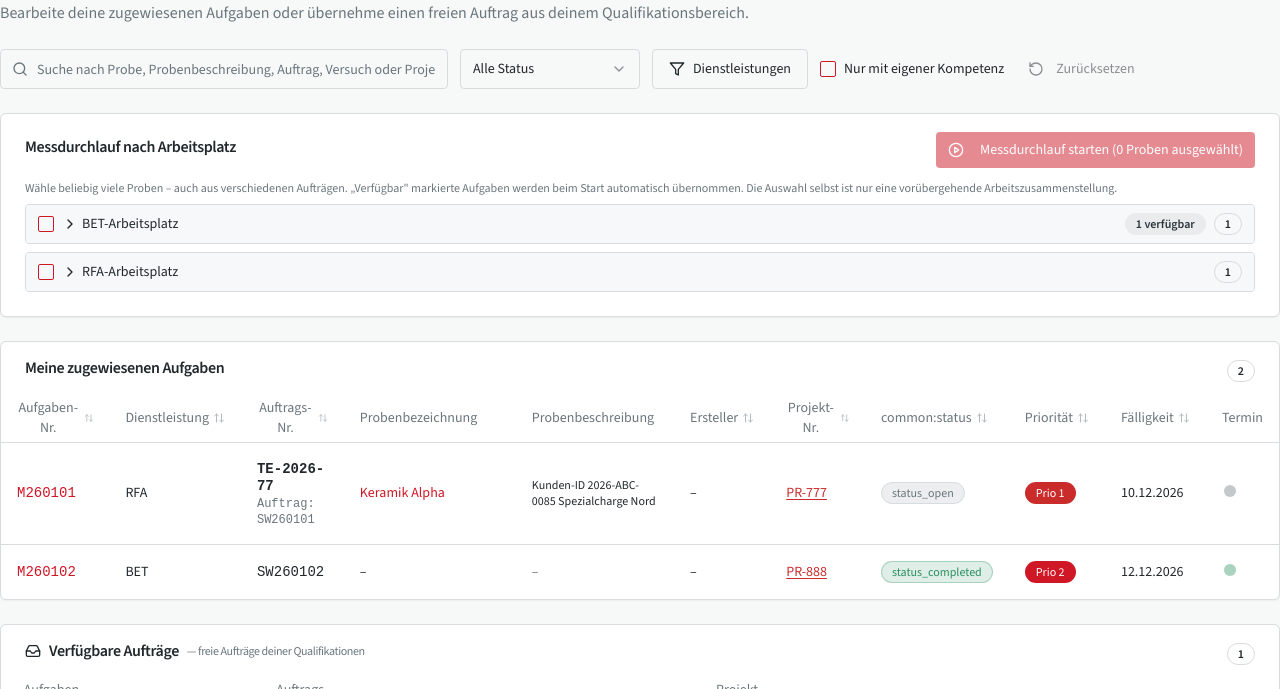
Test: Meine Aufgaben (DurchfuehrerTasksView) – Suche, Beschreibung & Navigation › sucht in Probenbeschreibung (inkl. 2026-abc-0085, Copy-Paste-Leerzeichen, Sonderzeichen) und klappt Treffergruppen automatisch auf
Check: the button "Bearbeiten" is not shown
// Suche nach Kunden-ID mit Copy-Paste-Leerzeichen & Kleinschreibung
Replace the text in the field with placeholder "Suche nach Probe, Probenbeschreibung, Auftrag, Versuch oder Projekt …" with "  2026-abc-0085  " at (224, 69), box [0,49,448,89]
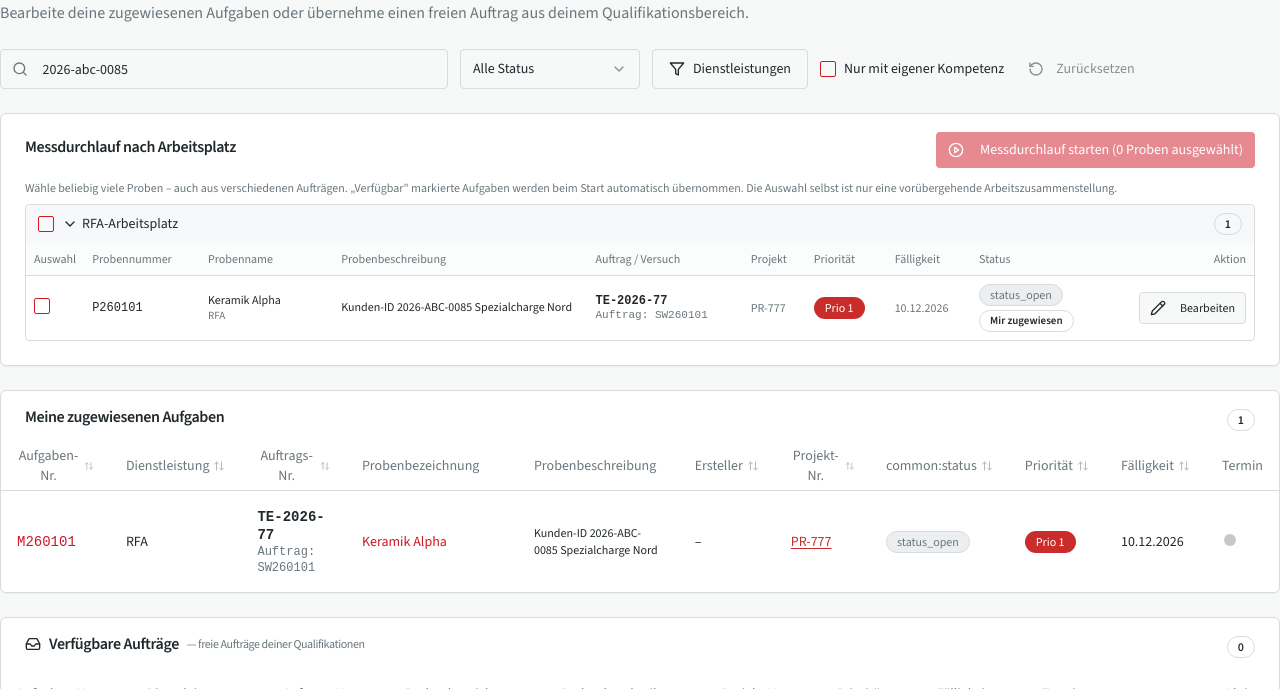
Check: the button "Bearbeiten" is shown, box [1139,292,1246,324]
// Suche nach Sonderzeichen in der freien Aufgabe
Replace the text in the field with placeholder "Suche nach Probe, Probenbeschreibung, Auftrag, Versuch oder Projekt …" with "sonderprobe_a/b-12.3" at (224, 69), box [0,49,448,89]
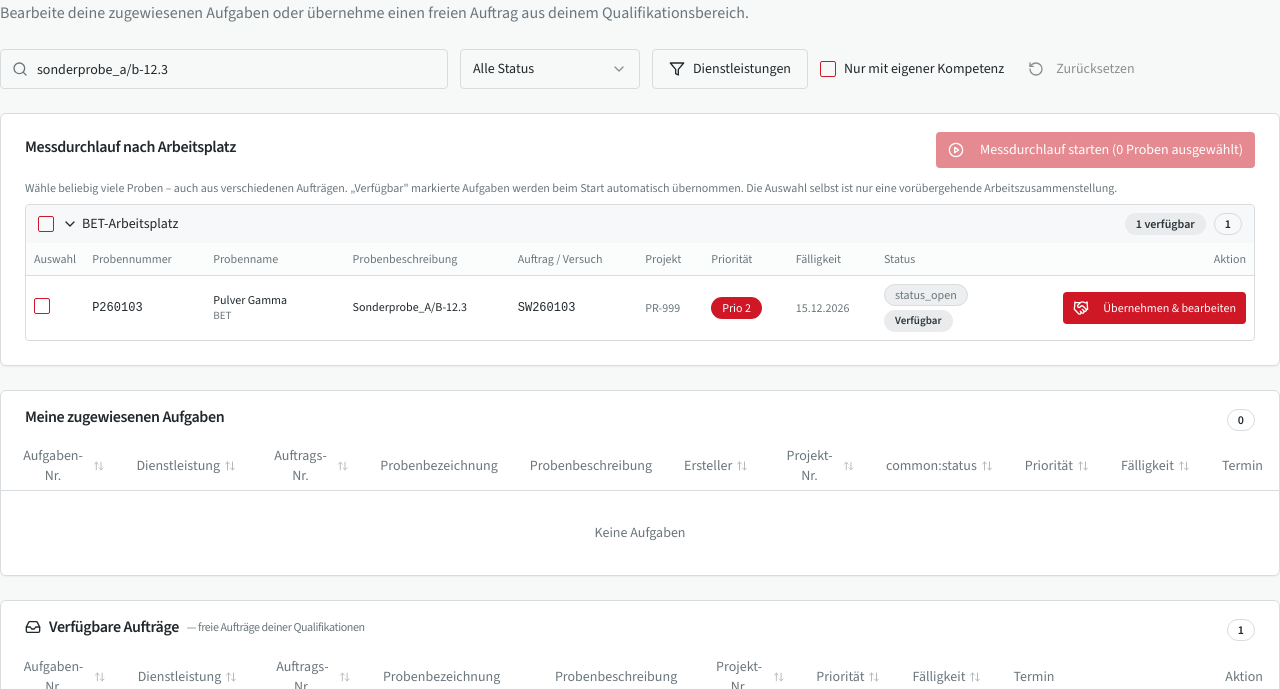
Check: the button "Übernehmen & bearbeiten" is shown, box [1063,292,1246,324]
Check: the link "M260101" is gone
// Suche nach Versuchsnummer & Projektname funktioniert weiterhin
Replace the text in the field with placeholder "Suche nach Probe, Probenbeschreibung, Auftrag, Versuch oder Projekt …" with "te-2026-77" at (224, 69), box [0,49,448,89]
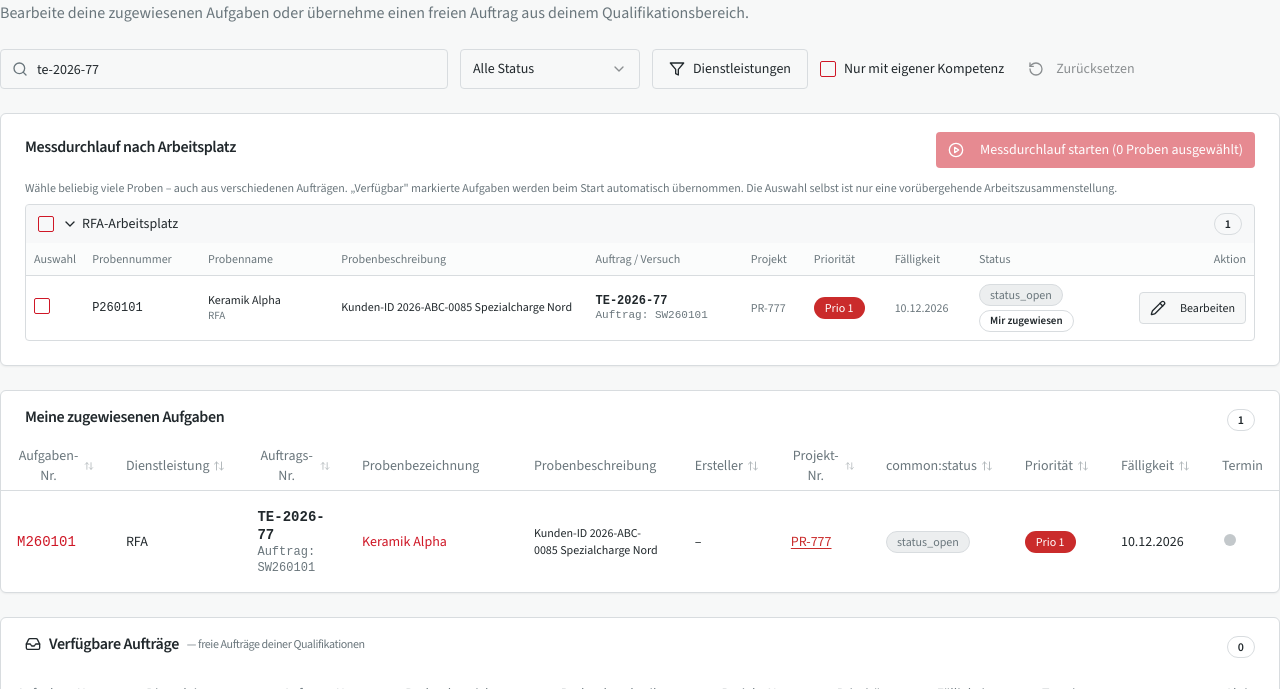
Check: the link "M260101" is shown, box [17,534,76,550]
Replace the text in the field with placeholder "Suche nach Probe, Probenbeschreibung, Auftrag, Versuch oder Projekt …" with "oberflächenanalyse" at (224, 69), box [0,49,448,89]
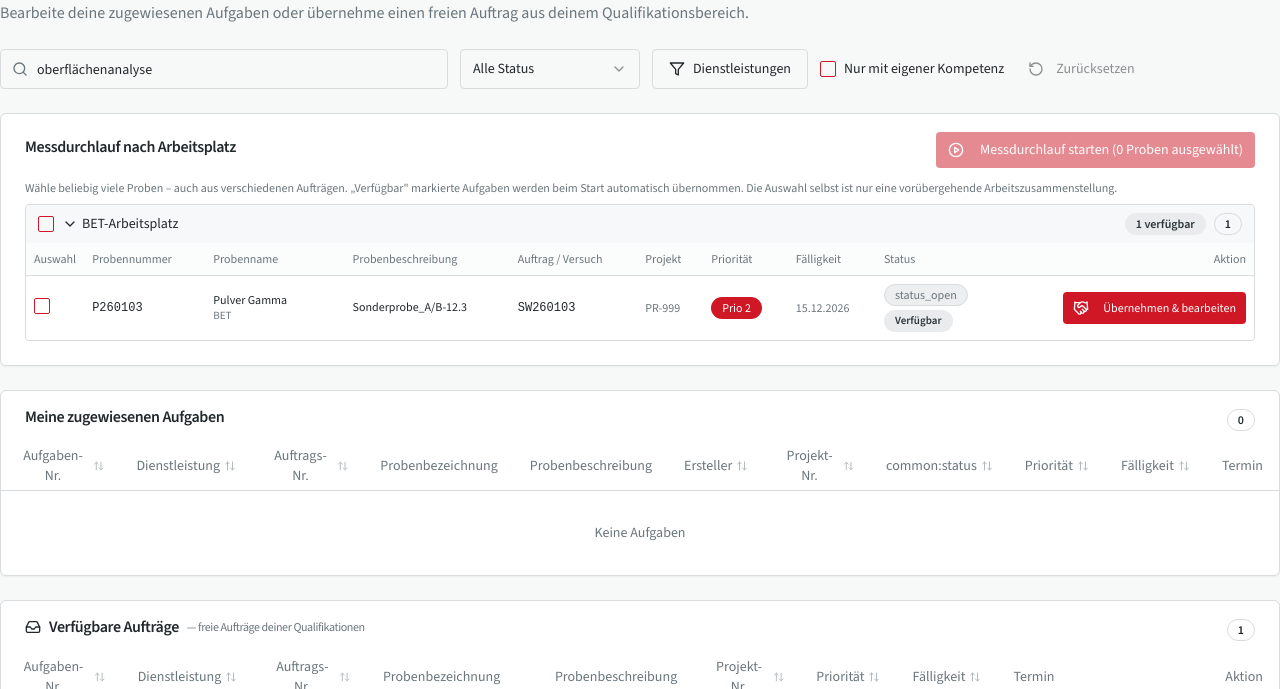
// Suche leeren stellt eingeklappten Zustand im Picker wieder her
Clear the field with placeholder "Suche nach Probe, Probenbeschreibung, Auftrag, Versuch oder Projekt …" at (224, 69), box [0,49,448,89]
(page scrolled)
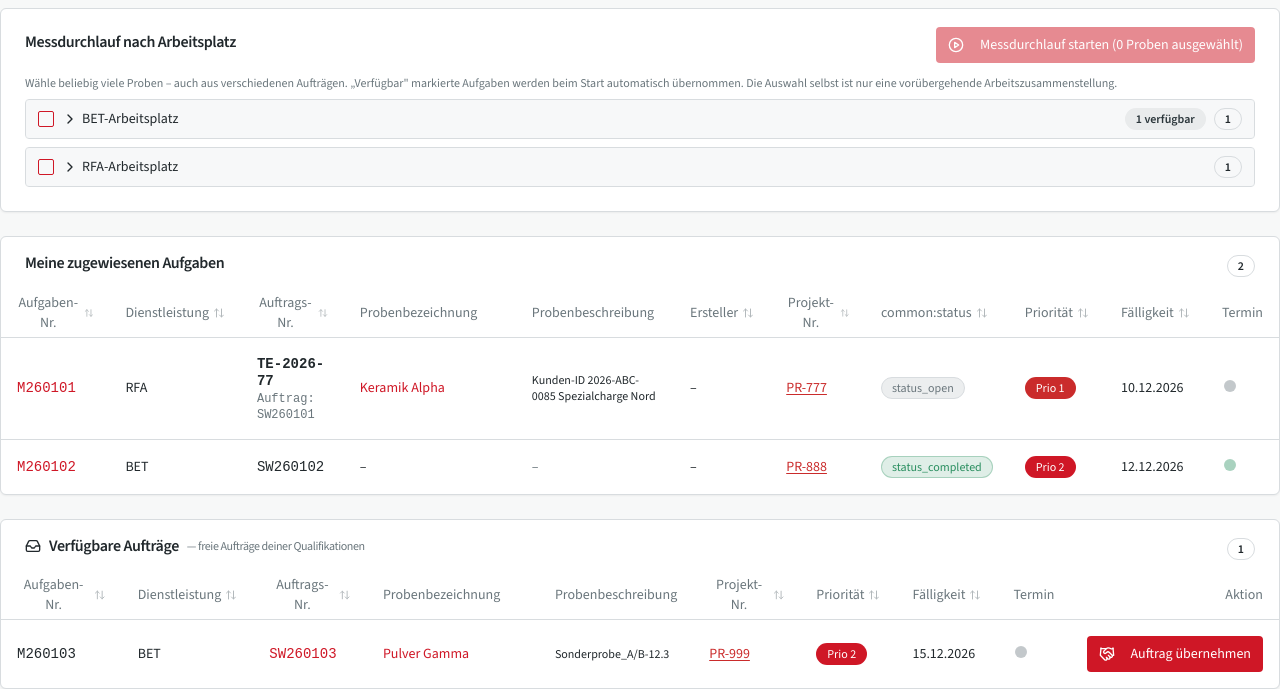
Check: the text "M260103" is shown, box [1,620,122,688]
Check: the button "bearbeiten" is gone
Check: the link "M260101" is shown, box [17,380,76,396]
